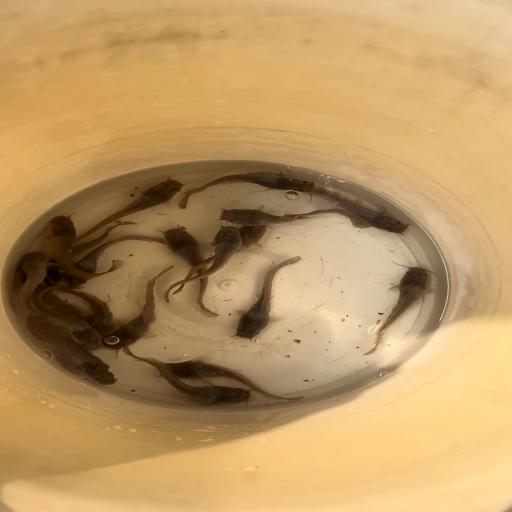lele: (119, 350, 252, 406), (172, 224, 272, 296), (18, 313, 118, 385), (158, 357, 306, 403), (156, 225, 241, 305), (360, 266, 435, 356), (75, 179, 183, 240), (104, 264, 176, 352), (231, 255, 303, 341), (33, 221, 136, 278), (156, 227, 220, 318), (68, 234, 174, 287), (174, 172, 313, 210), (307, 186, 410, 236), (43, 214, 124, 277), (33, 285, 108, 351), (216, 202, 373, 229), (8, 251, 49, 319), (58, 286, 117, 331)
